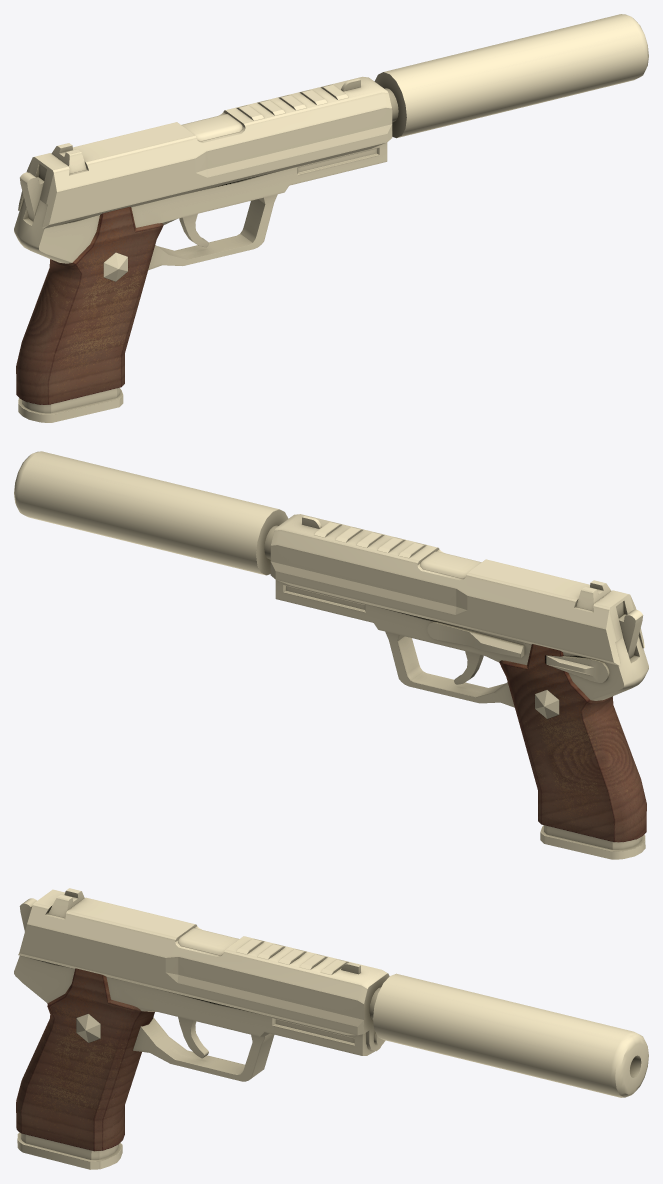
Rendered from weapon_3_7.gltf.
3 renders of one model, top to bottom at view 1: azimuth 30°, elevation 25°; view 2: azimuth 150°, elevation 25°; view 3: azimuth 330°, elevation 25°, orthographic.
Visible parts, largest first — view 1: Cylinder.005_Cylinder.004; view 2: Cylinder.005_Cylinder.004; view 3: Cylinder.005_Cylinder.004.
Part boxes in pixels (x1,y1,x2,y2): Cylinder.005_Cylinder.004: [14, 14, 648, 422]; Cylinder.005_Cylinder.004: [14, 451, 648, 859]; Cylinder.005_Cylinder.004: [14, 888, 648, 1169].
Bounding box in the file's own units: 5.75 × 2.29 × 0.5484.
1 material, 1 textured.
